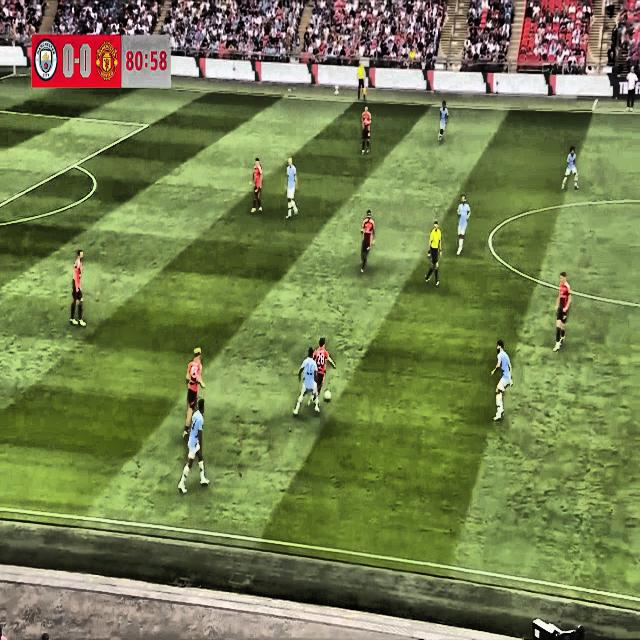ball: (320, 382, 334, 410)
players: (488, 332, 523, 428), (178, 398, 209, 496), (178, 342, 204, 449), (543, 266, 571, 353), (310, 336, 338, 416), (295, 340, 321, 423), (68, 244, 91, 327), (356, 206, 380, 278), (282, 154, 306, 224), (559, 142, 582, 200), (251, 156, 272, 217), (453, 193, 471, 261), (358, 98, 376, 160), (436, 94, 452, 151)
refree: (422, 216, 448, 289), (355, 55, 372, 108)
